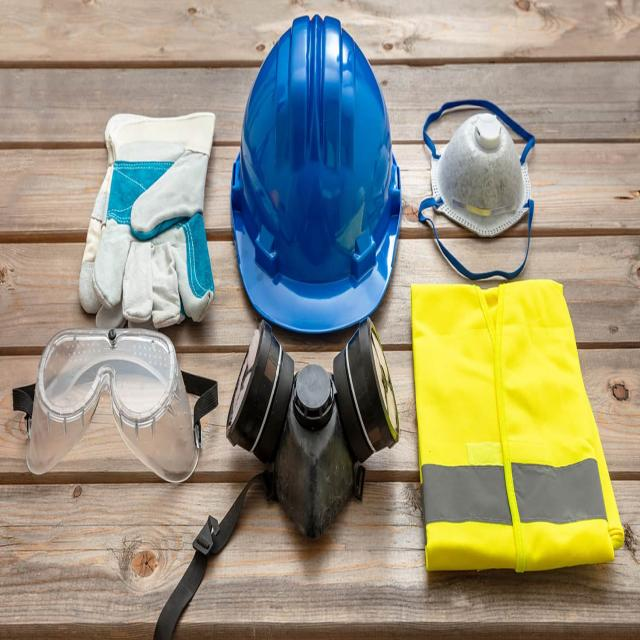Gloves: (77, 73, 220, 328)
Hard Hat: (227, 13, 410, 331)
Reflective Vest: (409, 269, 615, 580)
Safety Glasses: (8, 314, 222, 498)
